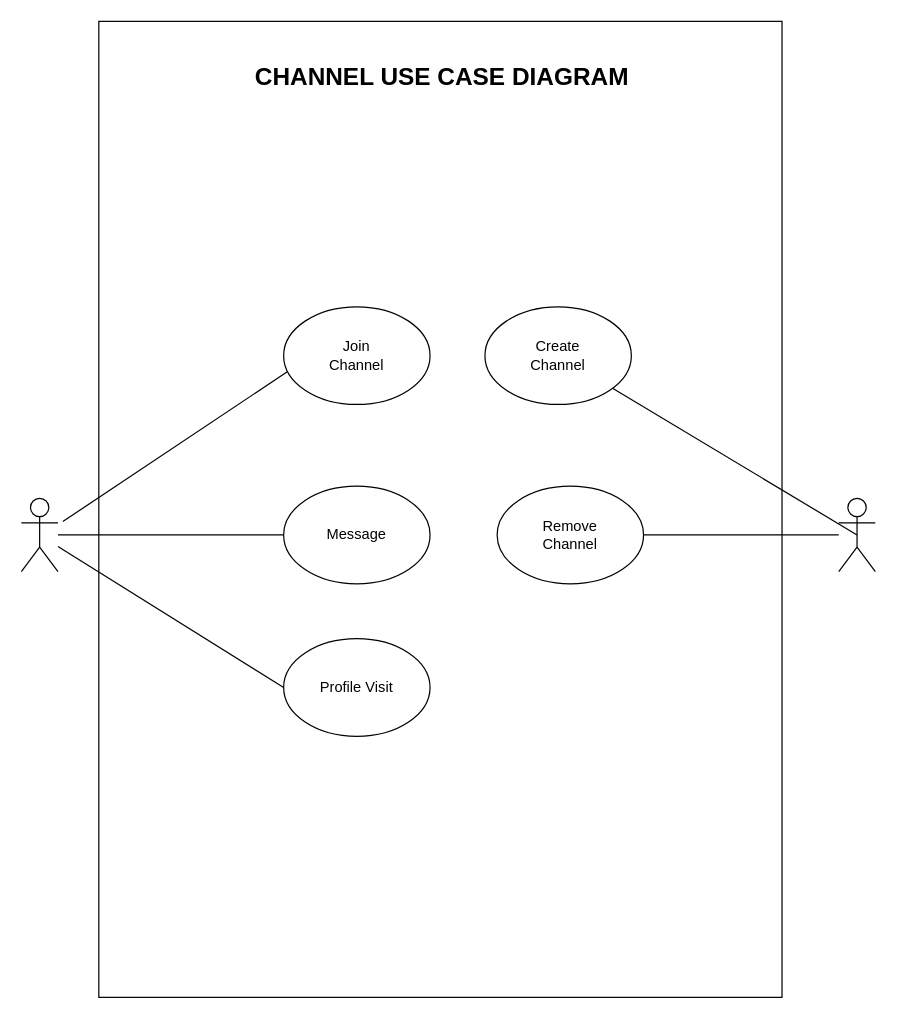
This 915x1019 diagram has some shape labels left out. Each missing label, with the centre of its shape:
User: point 39,534
Workspace Owner: point 856,534
